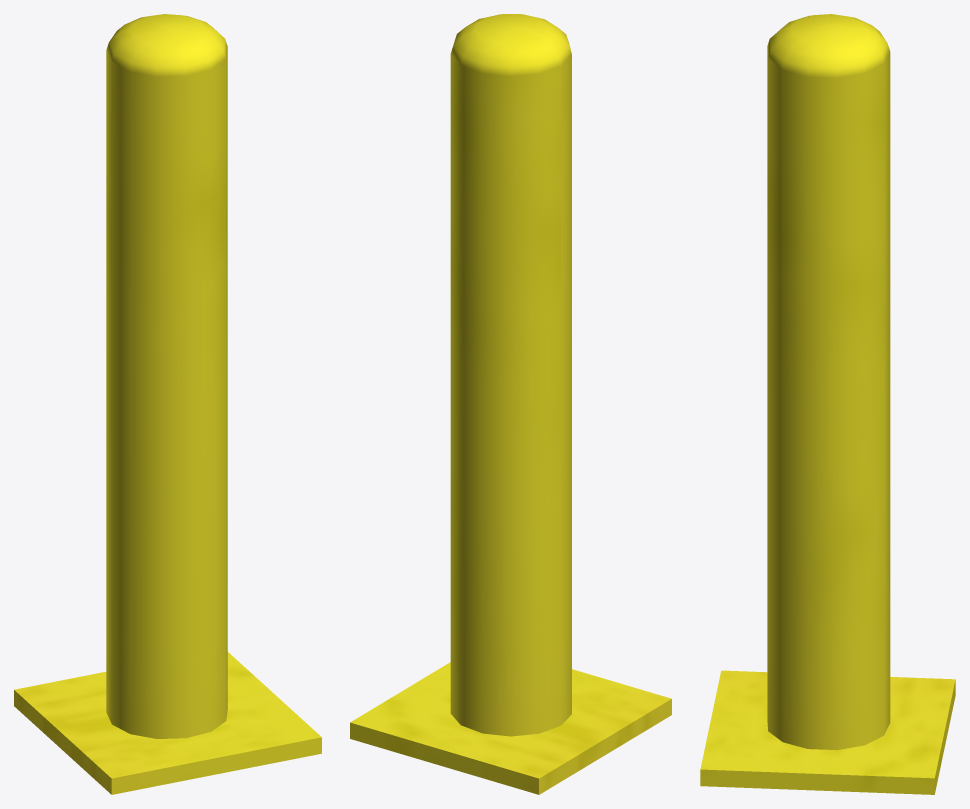
The model's file is ParkingLot_Barricade.fbx.
3 renders of one model, left to right at view 1: azimuth 30°, elevation 25°; view 2: azimuth 150°, elevation 25°; view 3: azimuth 270°, elevation 25°, orthographic.
Parts seen in each view (by area): view 1: ParkingLot_Barricade; view 2: ParkingLot_Barricade; view 3: ParkingLot_Barricade.
Part boxes in pixels (left/top/right/bottom): ParkingLot_Barricade: left=14, top=14, right=321, bottom=794; ParkingLot_Barricade: left=350, top=14, right=671, bottom=794; ParkingLot_Barricade: left=700, top=14, right=955, bottom=794.
Bounding box in the file's own units: 33.48 × 103 × 33.48.
